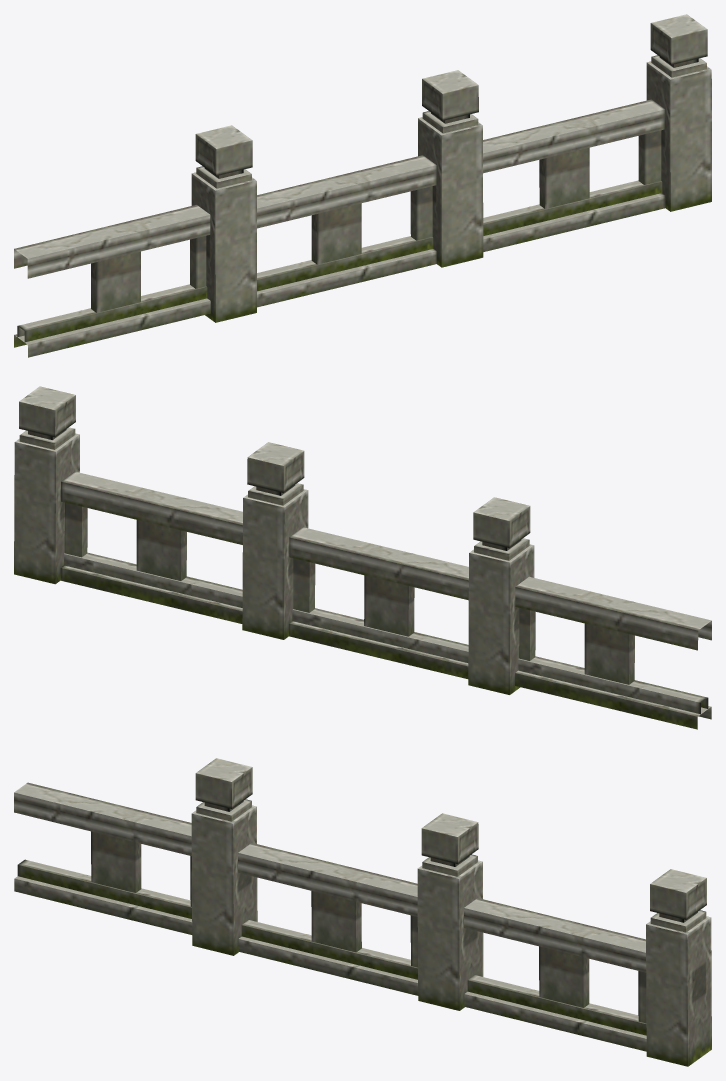
File: jd_piao_4.FBX
3 renders of one model, top to bottom at view 1: azimuth 30°, elevation 25°; view 2: azimuth 150°, elevation 25°; view 3: azimuth 330°, elevation 25°, orthographic.
Parts seen in each view (by area): view 1: jd_piao_4; view 2: jd_piao_4; view 3: jd_piao_4.
Part boxes in pixels (left/top/right/bottom): jd_piao_4: left=14, top=14, right=711, bottom=357; jd_piao_4: left=14, top=386, right=711, bottom=729; jd_piao_4: left=14, top=758, right=711, bottom=1066.
Bounding box in the file's own units: 580 × 141 × 35.67.
